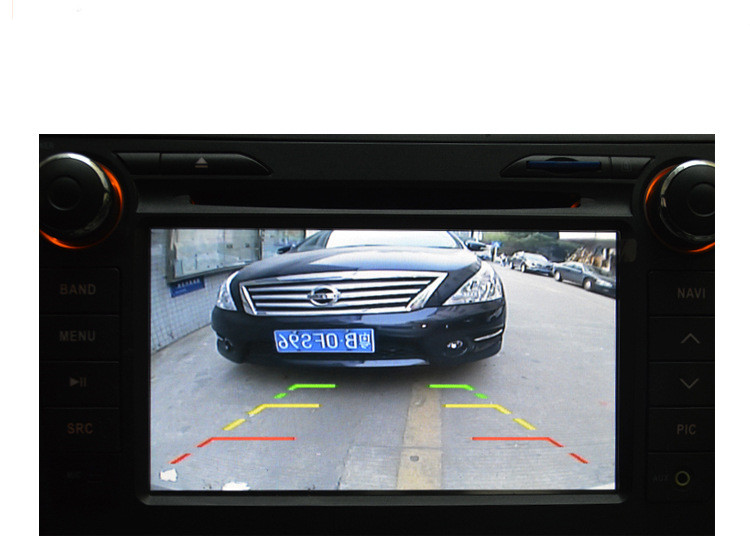license plate: (270, 328, 379, 357)
